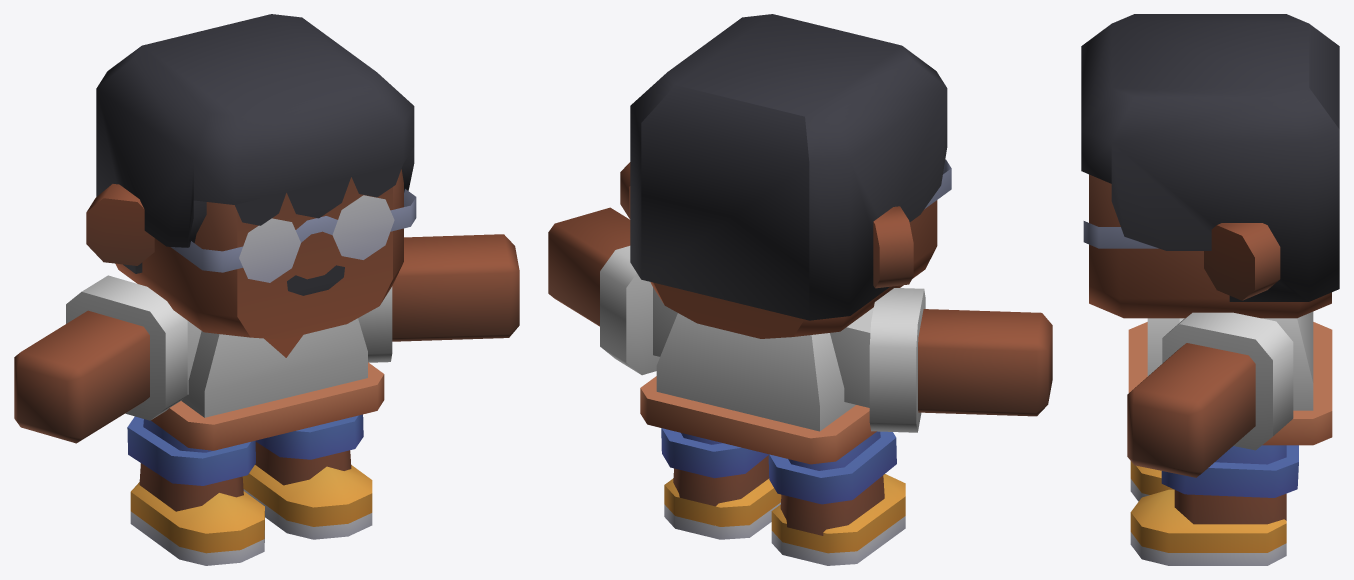
File: campus-person.glb
3 views of the same model, side by side, from view 1: azimuth 30°, elevation 25°; view 2: azimuth 150°, elevation 25°; view 3: azimuth 270°, elevation 25° (orthographic).
Visible parts, largest first — view 1: head, leg-right, arm-right, arm-left, leg-left, torso-cloth, torso, arm-right-cloth, arm-left-cloth; view 2: head, torso-cloth, arm-right, leg-right, leg-left, arm-right-cloth, torso, arm-left-cloth, arm-left; view 3: head, leg-left, arm-left, arm-left-cloth, torso, torso-cloth, leg-right.
Part boxes in pixels (bbox=[...]): head: bbox=[86, 14, 416, 339]; leg-right: bbox=[127, 416, 264, 565]; arm-right: bbox=[14, 310, 149, 443]; arm-left: bbox=[392, 234, 519, 341]; leg-left: bbox=[242, 414, 372, 539]; torso-cloth: bbox=[181, 318, 367, 417]; torso: bbox=[151, 335, 384, 450]; arm-right-cloth: bbox=[66, 275, 201, 420]; arm-left-cloth: bbox=[358, 286, 392, 362]; head: bbox=[620, 14, 951, 338]; torso-cloth: bbox=[656, 313, 855, 431]; arm-right: bbox=[918, 309, 1052, 416]; leg-right: bbox=[768, 431, 905, 565]; leg-left: bbox=[661, 428, 781, 539]; arm-right-cloth: bbox=[830, 288, 925, 432]; torso: bbox=[640, 376, 876, 464]; arm-left-cloth: bbox=[600, 246, 677, 375]; arm-left: bbox=[548, 207, 630, 326]; head: bbox=[1081, 14, 1339, 318]; leg-left: bbox=[1130, 445, 1298, 565]; arm-left: bbox=[1127, 343, 1255, 477]; arm-left-cloth: bbox=[1162, 312, 1293, 450]; torso: bbox=[1128, 322, 1332, 445]; torso-cloth: bbox=[1147, 311, 1313, 410]; leg-right: bbox=[1130, 461, 1173, 501].
Bounding box in the file's own units: 0.7672 × 0.6713 × 0.34.
